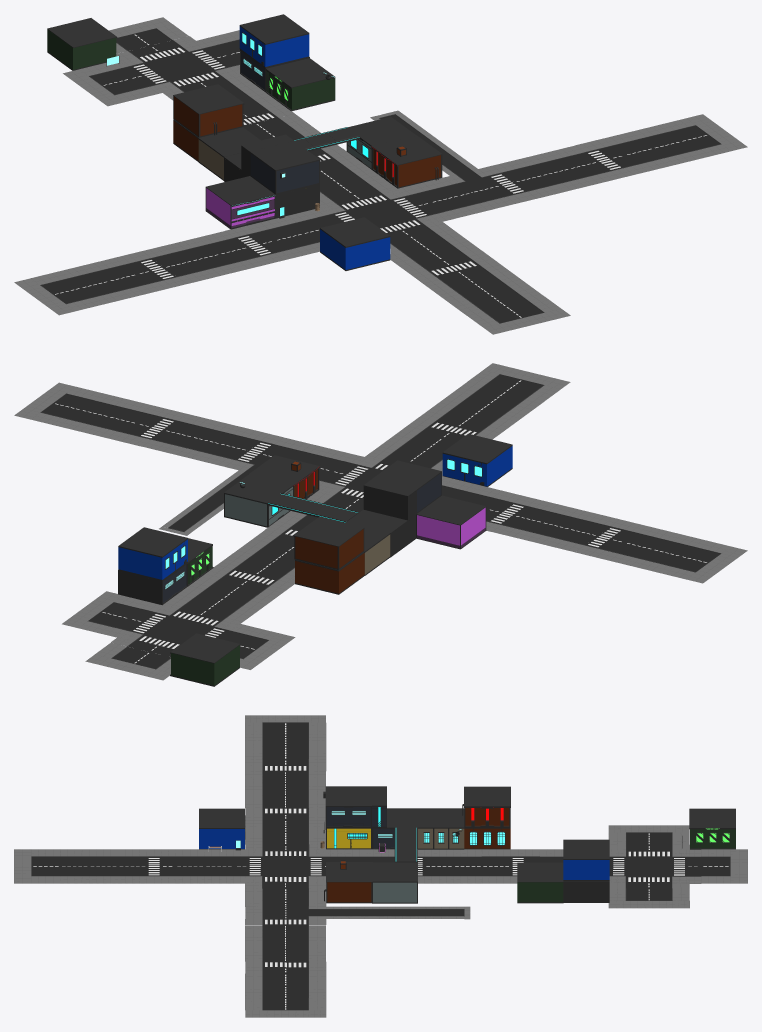
File: Demo.glb
3 renders of one model, top to bottom at view 1: azimuth 30°, elevation 25°; view 2: azimuth 150°, elevation 25°; view 3: azimuth 270°, elevation 25°, orthographic. The views are drawn at different scales.
Parts seen in each view (by area): view 1: Long_01.003, Long_01.002, Classic_01.001, Long_01.001, Carrefour_01.002, Carrefour_01.001, Block_A_01, Block_A_01.001, Block_N_01, Block_G_01.001, Block_B_01, Block_H_01.001 (+15 smaller); view 2: Long_01.003, Long_01.002, Long_01.001, Classic_01.001, Carrefour_01.002, Block_N_01, Block_G_01.001, Block_A_01.001, Block_A_01, Block_H_01, Block_I_01, Carrefour_01.001 (+15 smaller); view 3: Long_01.003, Long_01.002, Classic_01.001, Long_01.001, Carrefour_01.001, Carrefour_01.002, Block_A_01.001, Block_B_01, Block_G_01.001, Block_H_01.001, Block_D_01, Block_H_01 (+15 smaller).
Boxes of the visible parts, box(x1,y1,x2,y2) form: Long_01.003: box(59, 210, 328, 304); Long_01.002: box(409, 125, 702, 218); Classic_01.001: box(390, 226, 544, 315); Long_01.001: box(169, 78, 390, 201); Carrefour_01.002: box(110, 36, 245, 97); Carrefour_01.001: box(309, 184, 453, 240); Block_A_01: box(320, 217, 390, 270); Block_A_01.001: box(239, 14, 309, 67); Block_N_01: box(205, 176, 275, 229); Block_G_01.001: box(173, 84, 244, 137); Block_B_01: box(250, 141, 319, 194); Block_H_01.001: box(265, 58, 335, 110); Long_01.003: box(442, 479, 702, 572); Long_01.002: box(59, 393, 352, 478); Long_01.001: box(169, 495, 363, 619); Classic_01.001: box(371, 382, 544, 469); Carrefour_01.002: box(106, 600, 250, 656); Block_N_01: box(416, 495, 486, 549); Block_G_01.001: box(293, 516, 364, 569); Block_A_01.001: box(118, 527, 187, 580); Block_A_01: box(442, 433, 512, 486); Block_H_01: box(170, 633, 240, 686); Block_I_01: box(224, 474, 293, 527); Carrefour_01.001: box(313, 452, 452, 506); Long_01.003: box(245, 734, 326, 844); Long_01.002: box(245, 888, 326, 998); Classic_01.001: box(60, 849, 233, 883); Long_01.001: box(337, 849, 563, 883); Carrefour_01.001: box(233, 844, 337, 888); Carrefour_01.002: box(609, 844, 701, 888); Block_A_01.001: box(563, 839, 609, 880); Block_B_01: box(325, 786, 371, 827); Block_G_01.001: box(464, 786, 510, 827); Block_H_01.001: box(517, 862, 563, 903); Block_D_01: box(418, 808, 464, 849); Block_H_01: box(689, 808, 735, 849).
Bounding box in the file's own units: 124 × 10.61 × 127.
1 material, 1 textured.
